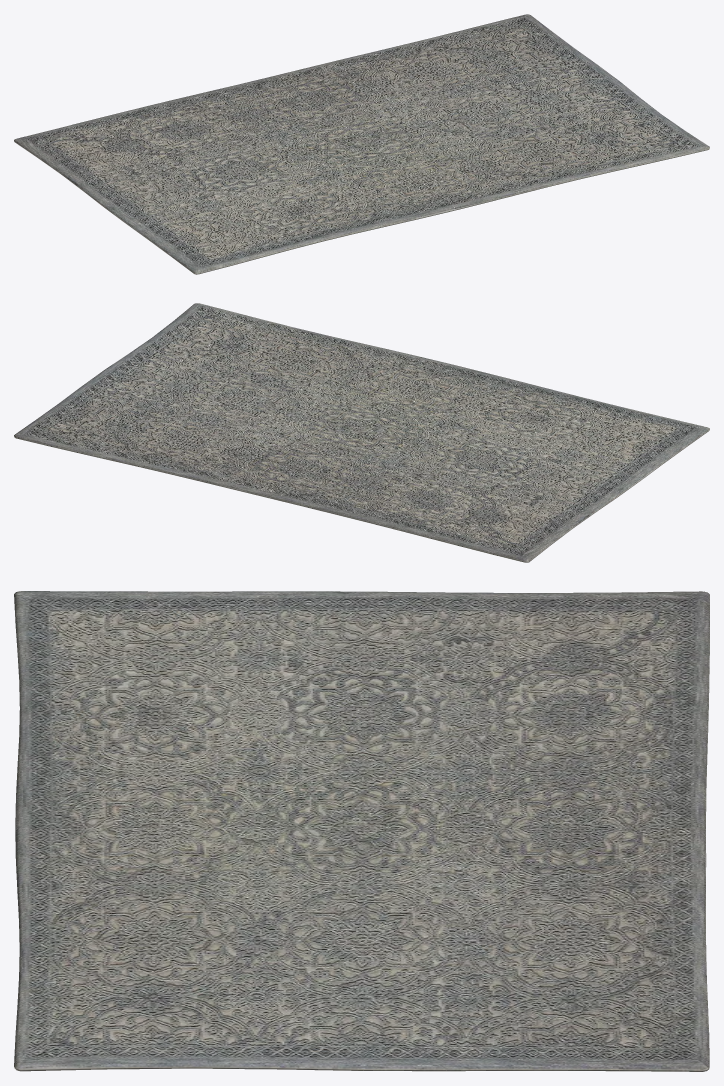
File: abo-B07B4WR39P.glb
3 renders of one model, top to bottom at view 1: azimuth 30°, elevation 25°; view 2: azimuth 150°, elevation 25°; view 3: azimuth 270°, elevation 25°, orthographic. The views are drawn at different scales.
Bounding box in the file's own units: 2.5 × 0.022 × 1.53.
1 material, 1 textured.
